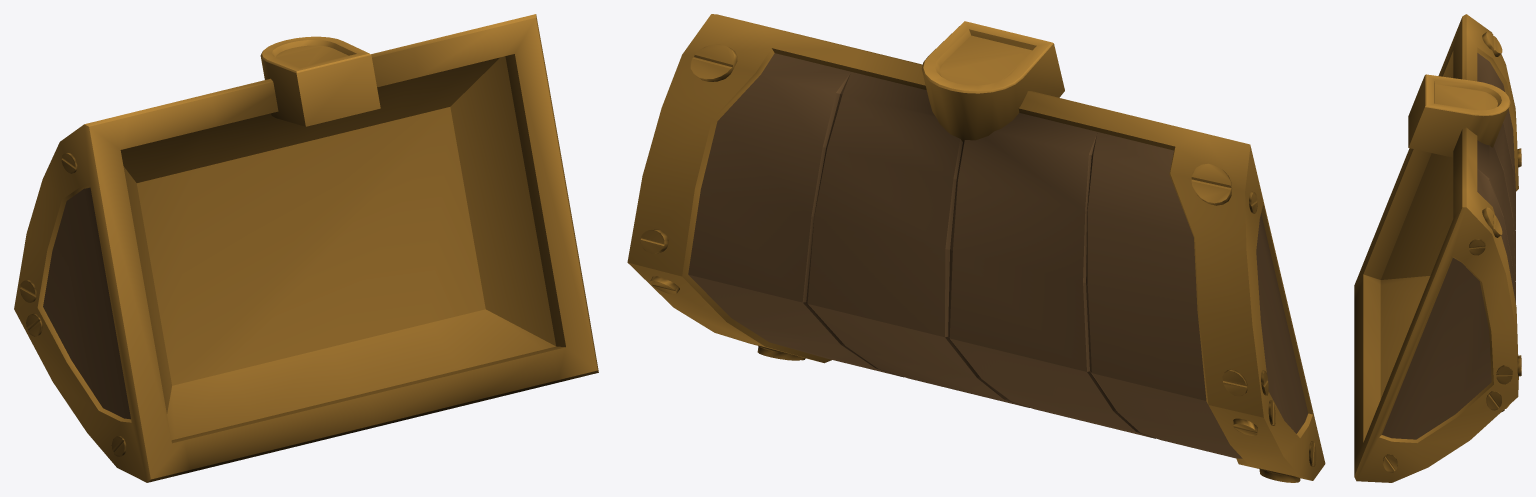
File: obj_chestOpen_lid.FBX
The picture shows the model from 3 angles, left to right: view 1: azimuth 30°, elevation 25°; view 2: azimuth 150°, elevation 25°; view 3: azimuth 270°, elevation 25°; orthographic projection. The views are drawn at different scales.
Parts seen in each view (by area): view 1: obj_chestOpen_lid; view 2: obj_chestOpen_lid; view 3: obj_chestOpen_lid.
Boxes of the visible parts, x1,y1,x2,y2 form: obj_chestOpen_lid: (14, 14, 598, 482); obj_chestOpen_lid: (627, 14, 1325, 482); obj_chestOpen_lid: (1354, 14, 1521, 482).
Size of the model in its own units: 2.35 by 1.43 by 0.7284.
